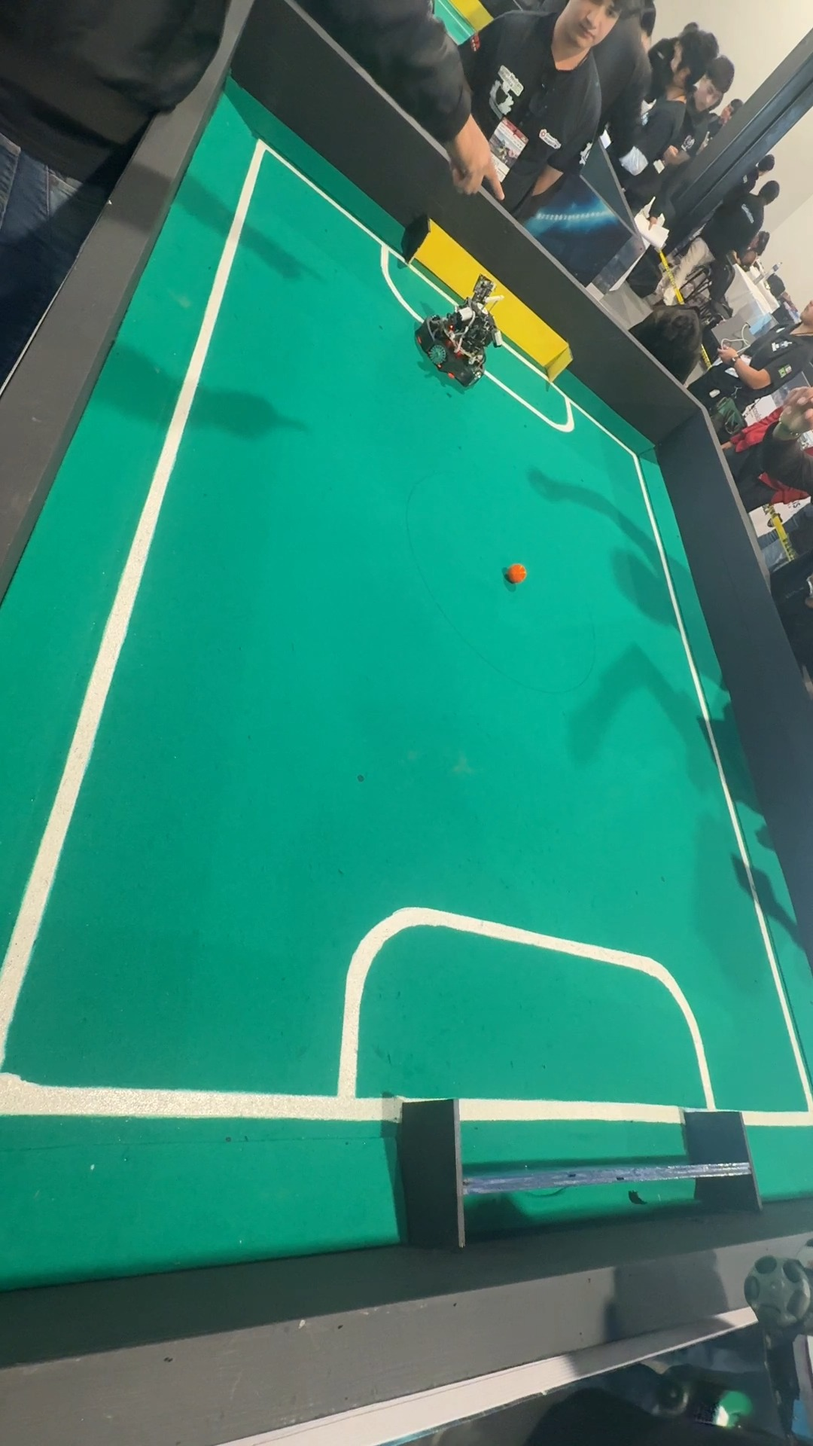Robot: (410, 268, 504, 401)
pelota: (505, 557, 529, 582)
